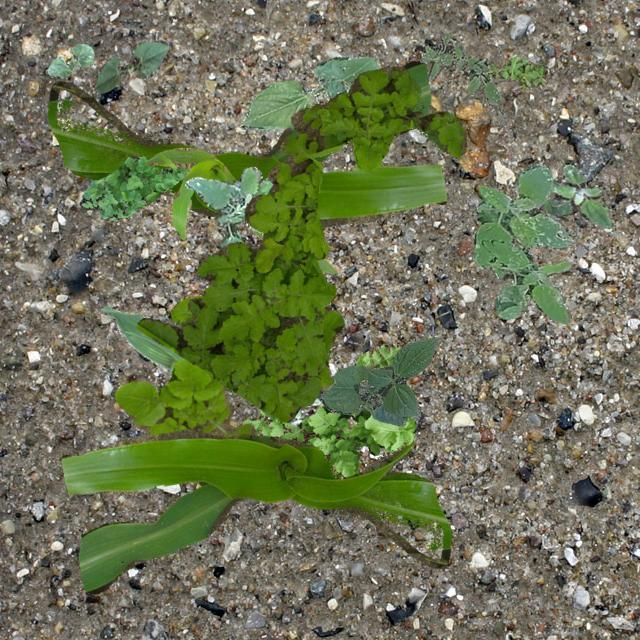crop: (47, 60, 446, 226), (61, 428, 450, 592), (144, 146, 338, 272), (316, 336, 438, 424), (238, 56, 380, 130), (100, 304, 182, 378), (94, 41, 168, 92), (46, 42, 92, 78)
weed: (136, 66, 466, 422), (114, 258, 344, 437), (237, 342, 413, 478), (472, 162, 576, 322), (420, 32, 504, 126), (78, 154, 186, 220), (184, 166, 272, 247), (544, 164, 612, 228), (484, 56, 546, 90), (288, 396, 320, 430)
